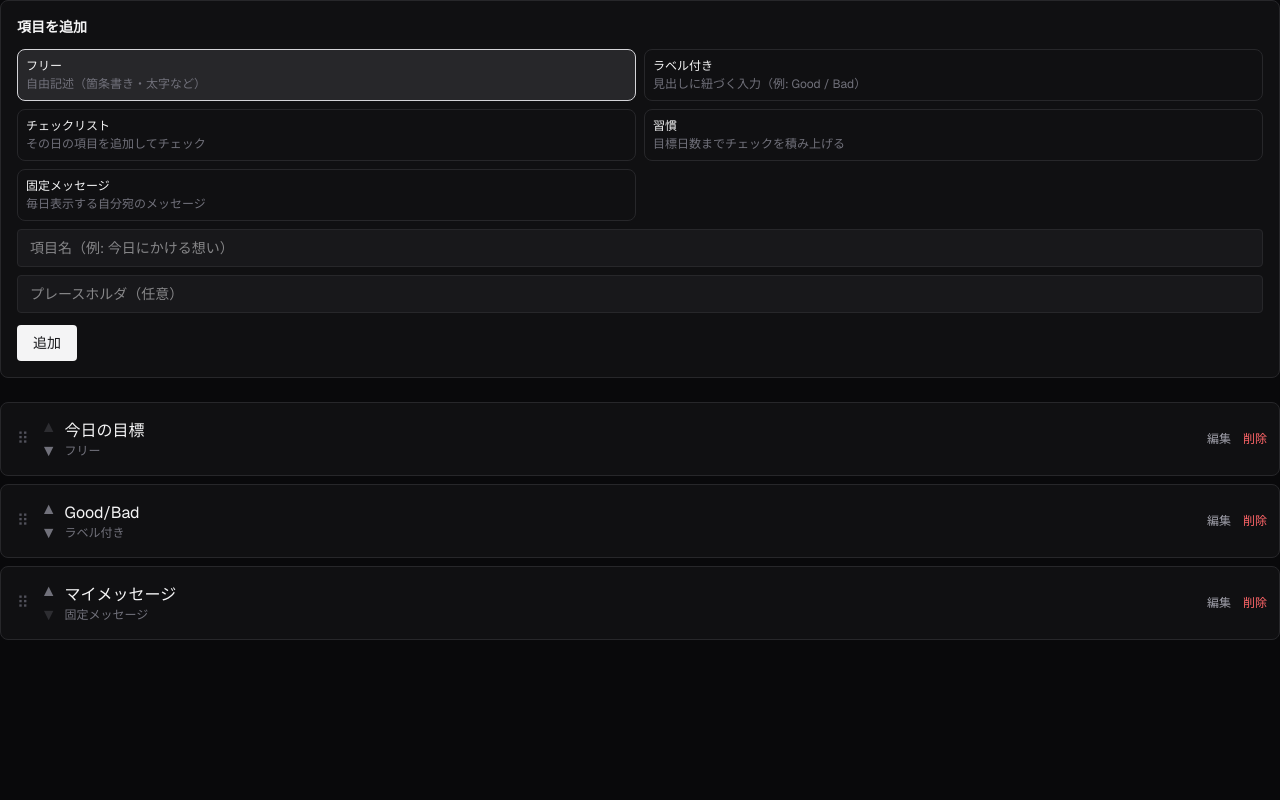
Test: ComponentManager（編集・削除） › 編集は「閉じる」で閉じられる
Click the button "編集" in the row of "今日の目標".
click(1219, 439)  # box left=1207, top=431, right=1231, bottom=447
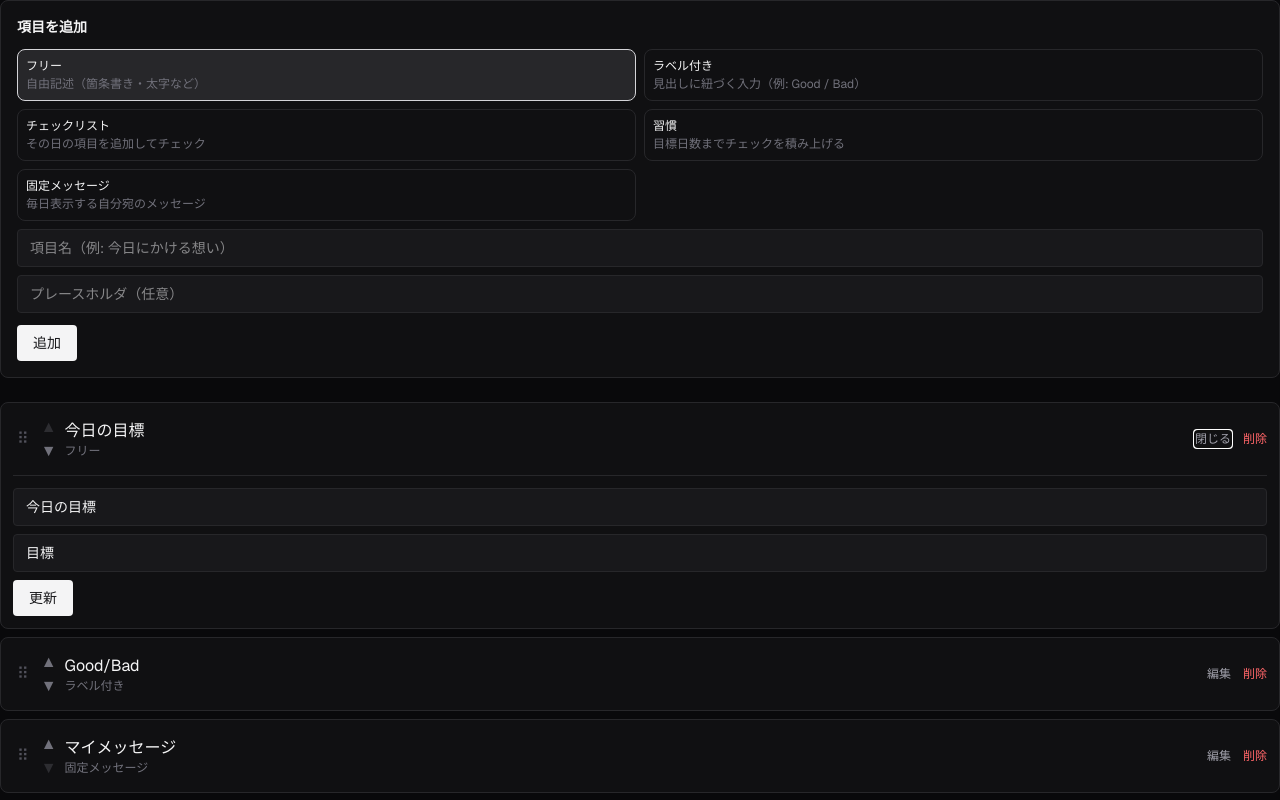
Click the button "閉じる".
click(1213, 439)  # box left=1195, top=431, right=1231, bottom=447
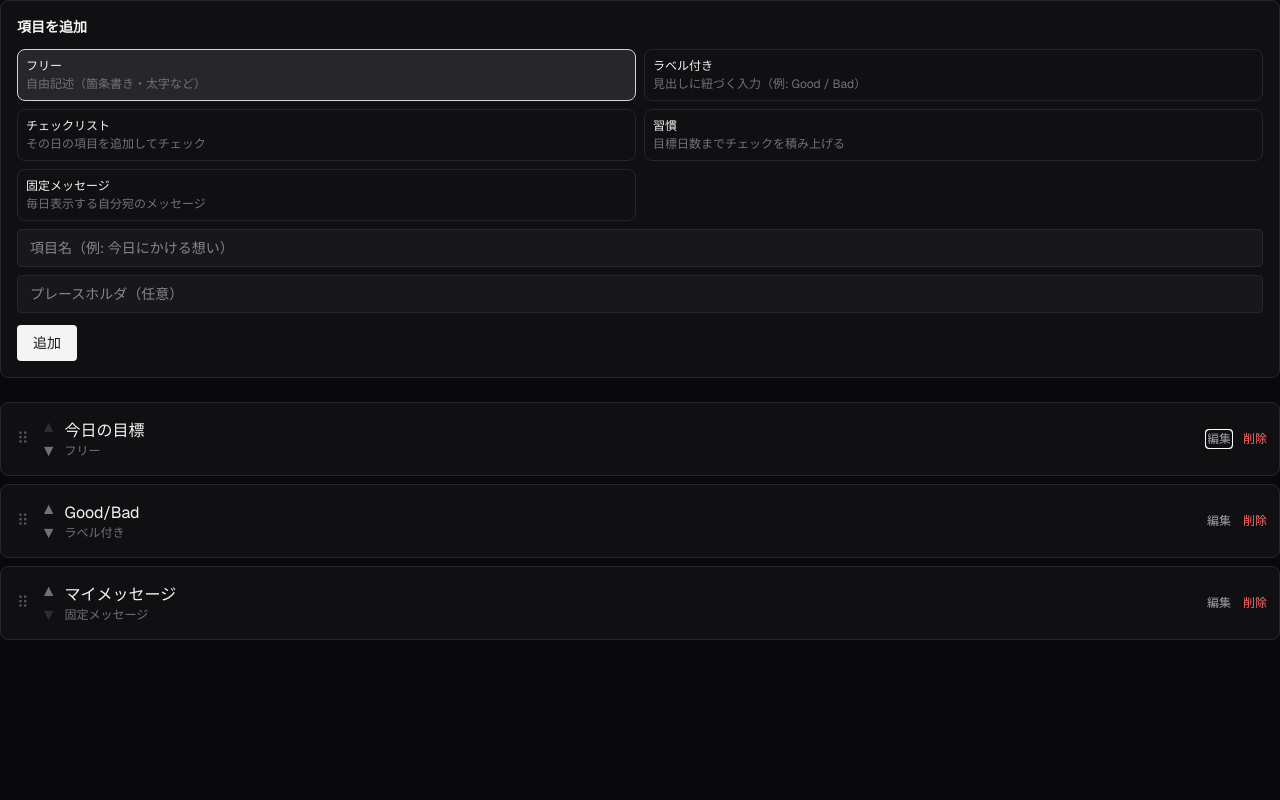
Check: the button "更新" is gone
